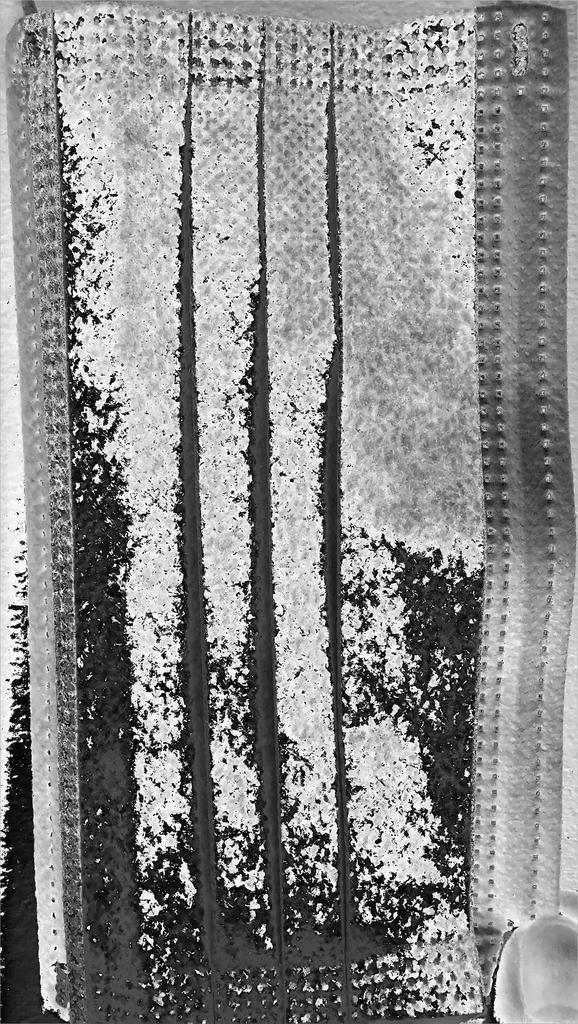High GSM: (37, 6, 497, 1024)
